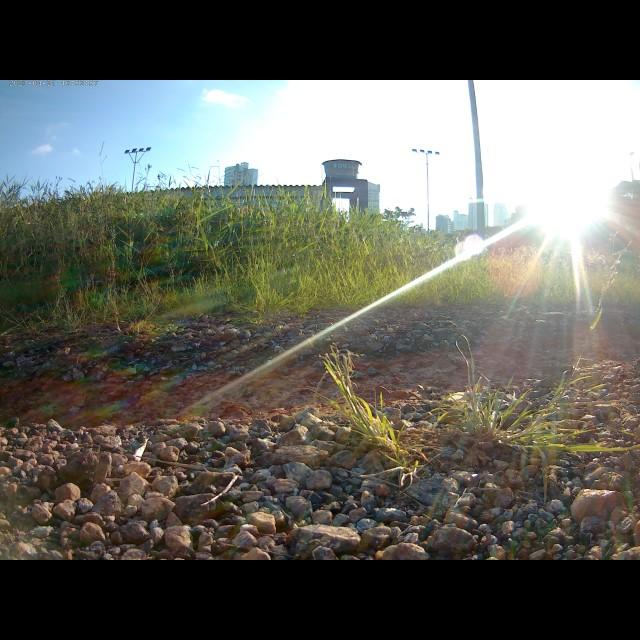ravina: (4, 324, 636, 428)
